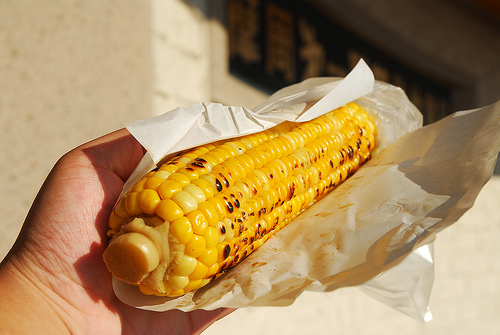corn: (100, 97, 376, 296)
